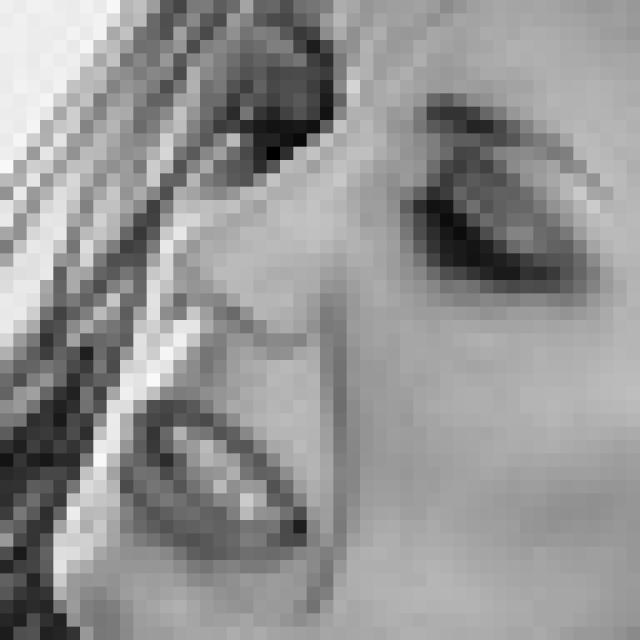disgust: (113, 23, 606, 640)
